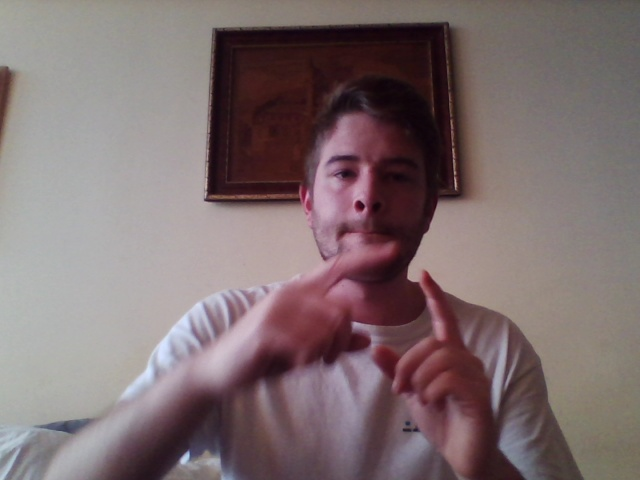kad: (214, 241, 503, 474)
